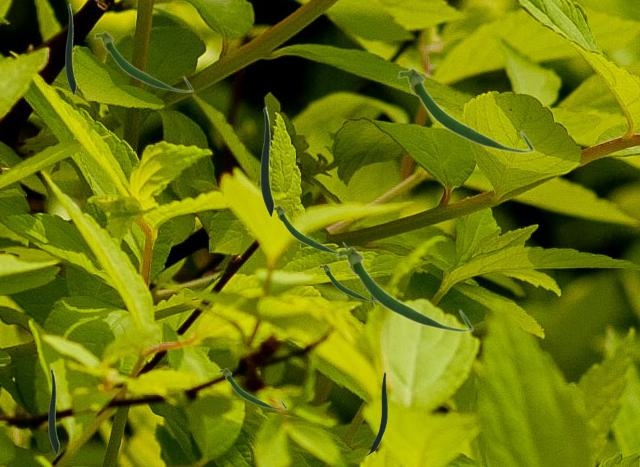french_bean: (396, 67, 534, 153), (335, 246, 473, 332), (93, 30, 193, 92), (274, 204, 347, 254), (218, 367, 286, 409), (318, 263, 374, 301), (366, 372, 386, 454), (260, 106, 273, 216), (65, 3, 75, 94), (48, 368, 58, 454)
